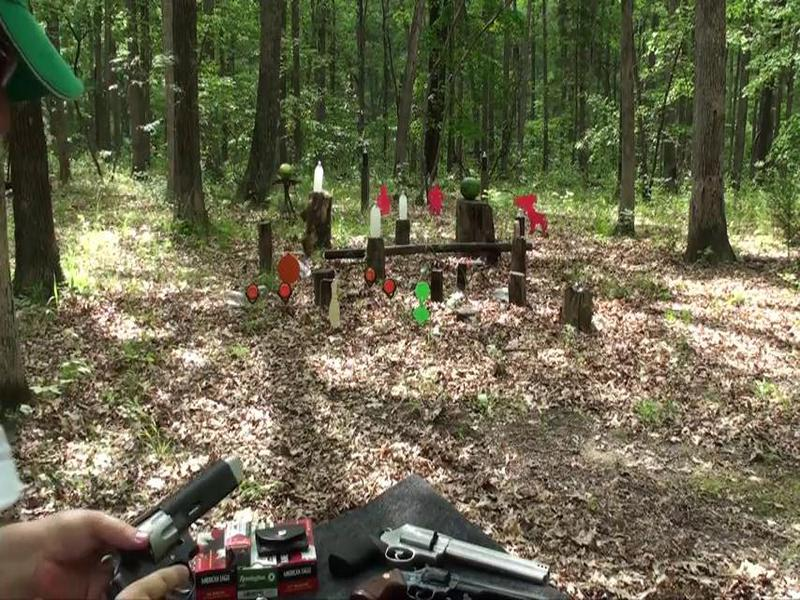Revolver: (88, 428, 264, 600)
